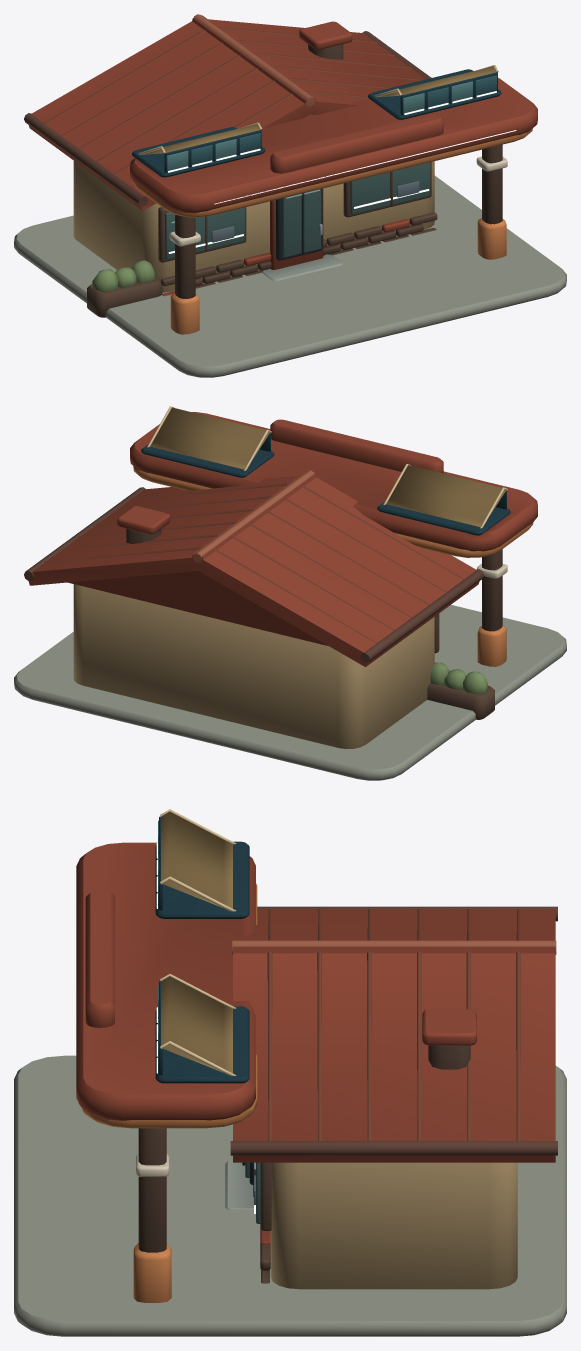
File: valley_fuel.glb
The picture shows the model from 3 angles, top to bottom: view 1: azimuth 30°, elevation 25°; view 2: azimuth 150°, elevation 25°; view 3: azimuth 270°, elevation 25°; orthographic projection. The views are drawn at different scales.
Parts seen in each view (by area): view 1: Fuel; view 2: Fuel; view 3: Fuel.
Part boxes in pixels (x1=…): Fuel: x1=14, y1=14, x2=566, y2=377; Fuel: x1=14, y1=406, x2=566, y2=780; Fuel: x1=14, y1=809, x2=566, y2=1336.
Size of the model in its own units: 8.54 by 4.02 by 7.3.
